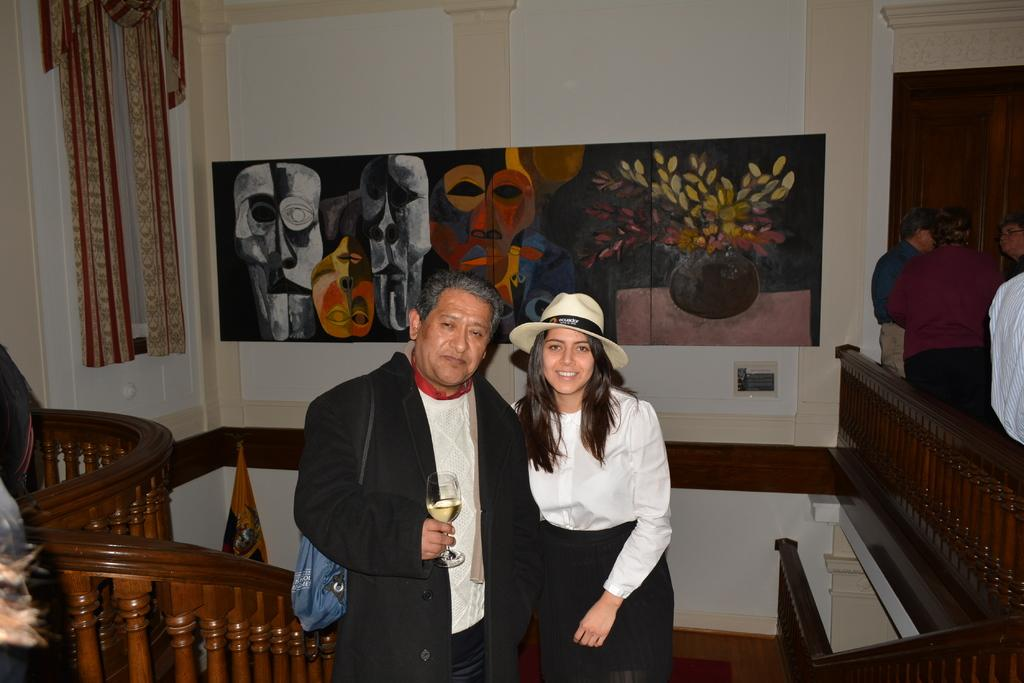Hat: (508, 292, 628, 369)
